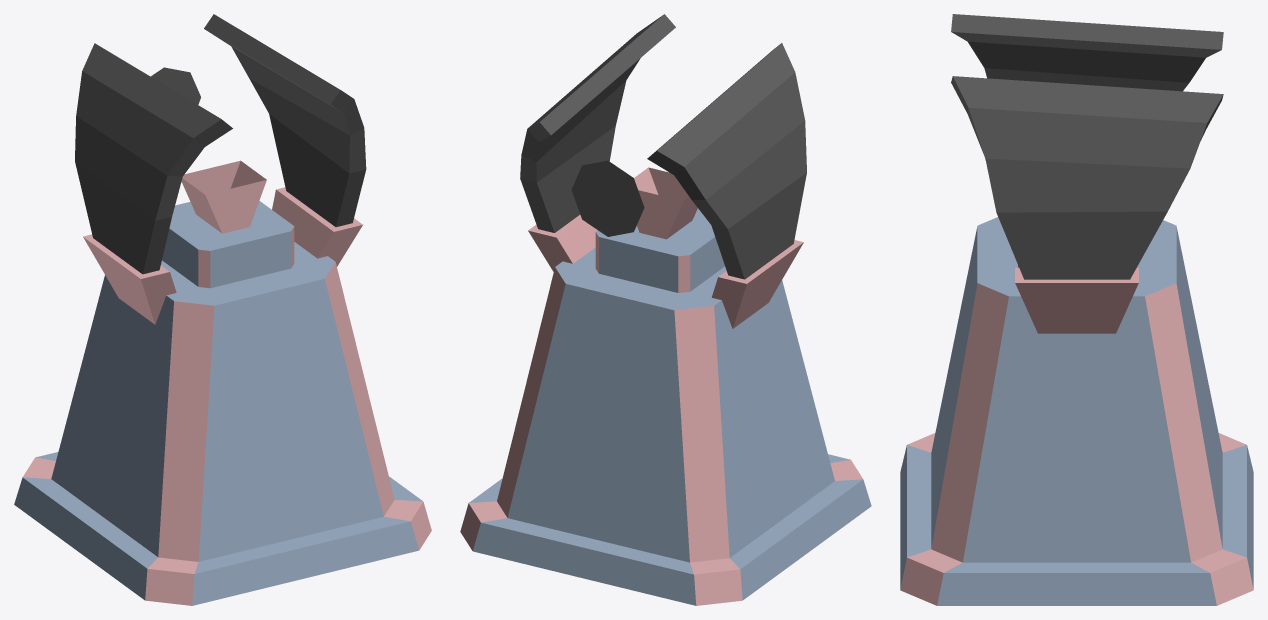
Rendered from TorreLongoAlcanceAVC1.fbx.
3 renders of one model, left to right at view 1: azimuth 30°, elevation 25°; view 2: azimuth 150°, elevation 25°; view 3: azimuth 270°, elevation 25°, orthographic. The views are drawn at different scales.
Visible parts, largest first — view 1: Torre.001; view 2: Torre.001; view 3: Torre.001.
Part boxes in pixels (x1,y1,x2,y2): Torre.001: (14,14,431,605); Torre.001: (460,14,871,605); Torre.001: (900,14,1253,605).
Bounding box in the file's own units: 247 × 376 × 247.
